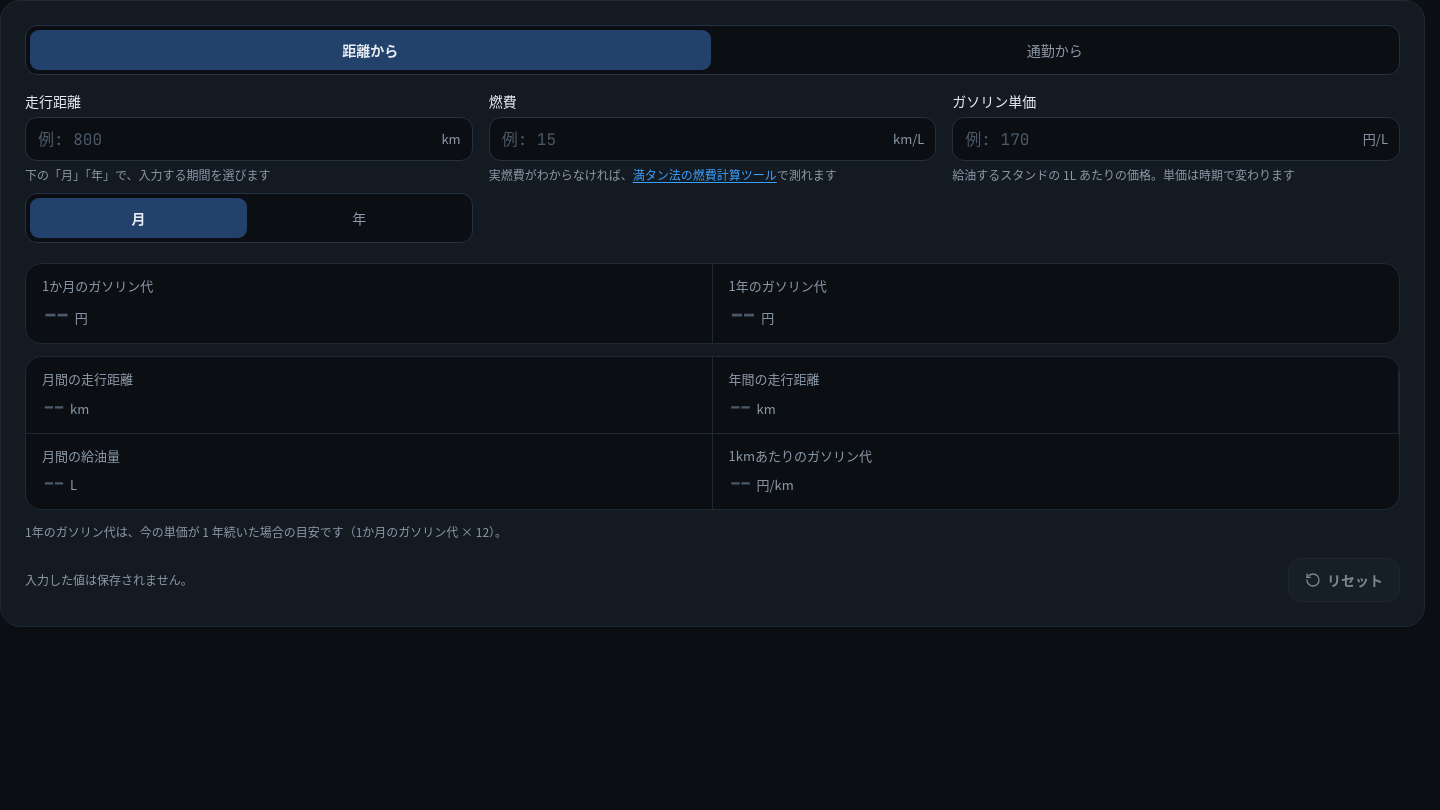
AnnualGasCostCalculator › 不正な入力には日本語のメッセージを出し、リセットで消す
The image size is (1440, 810).
Expected: the button "リセット" is disabled, [1288,558,1400,602]
Type "abc" into the field labelled "走行距離".
click(249, 139); type("abc")  # box [25,117,473,161]
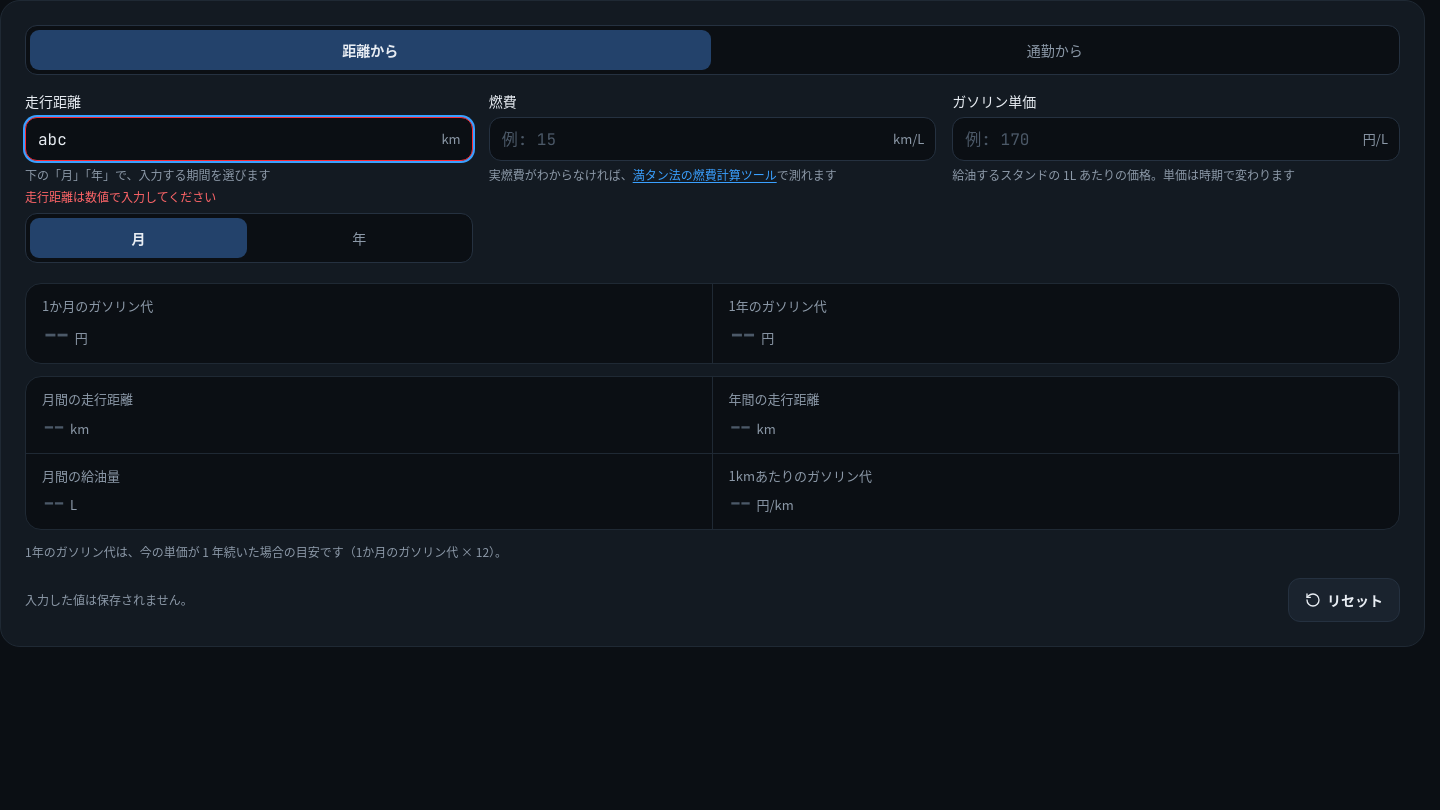
Type "0" into the field labelled "燃費".
click(713, 139); type("0")  # box [489,117,936,161]
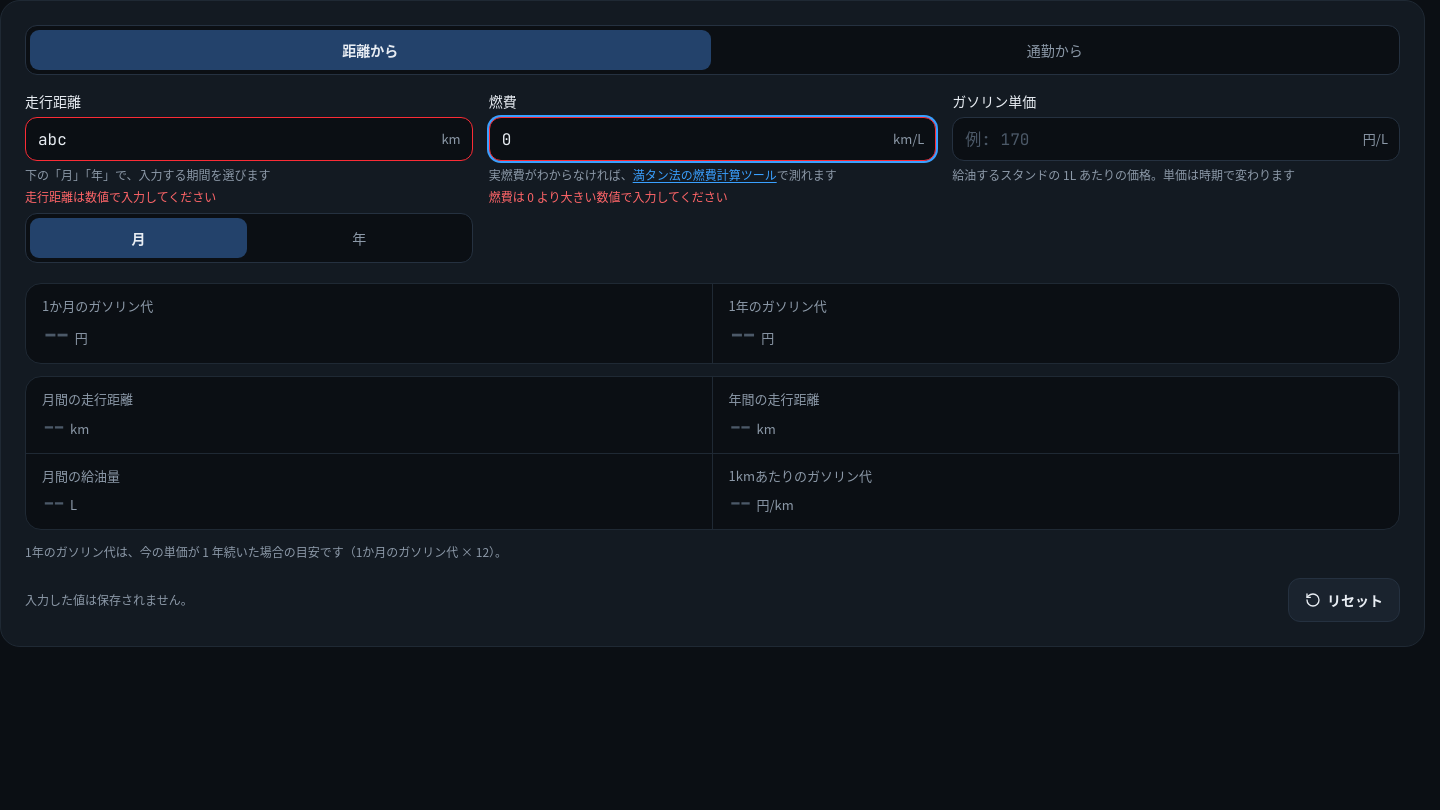
Expected: the text "走行距離は数値で入力してください" is shown, [25,188,216,204]
Expected: the text "燃費は 0 より大きい数値で入力してください" is shown, [489,188,728,204]
Click the button "リセット".
click(1344, 600)  # box [1288,578,1400,622]
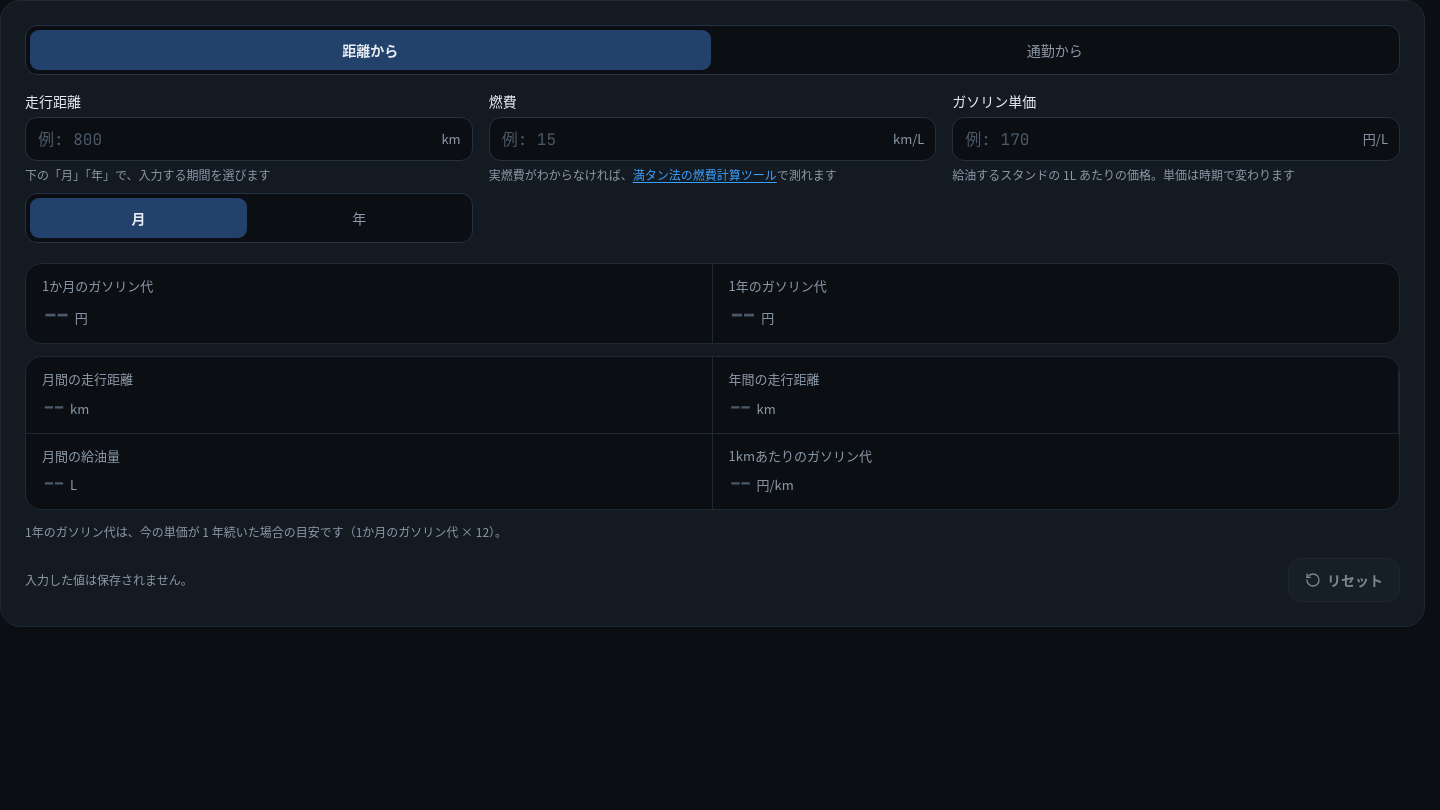
Expected: the field labelled "走行距離" is empty, [25,117,473,161]
Expected: the text "走行距離は数値で入力してください" is gone
Expected: the button "リセット" is disabled, [1288,558,1400,602]
